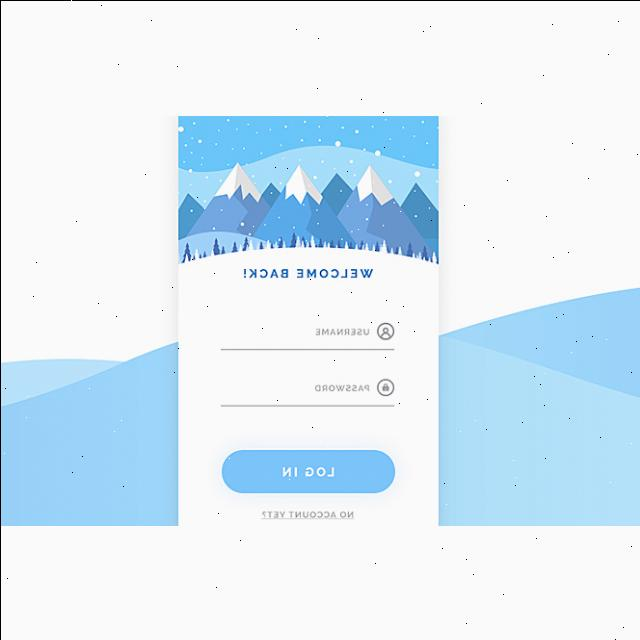QLabel: (240, 266, 374, 280), (259, 510, 355, 520), (280, 464, 336, 478)
VBtn: (220, 449, 394, 495)
VCard: (176, 115, 440, 525)
VTextField: (216, 374, 397, 411), (215, 316, 398, 352)
